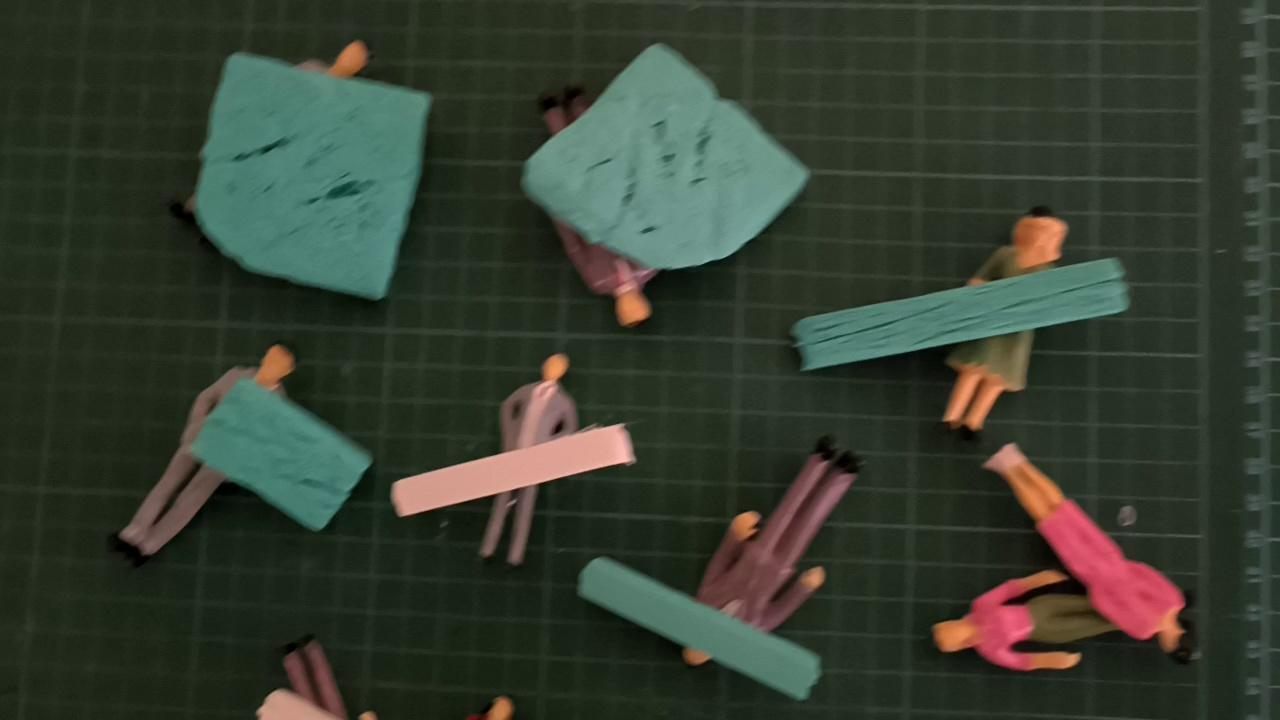human: (980, 446, 1200, 660), (108, 341, 299, 564), (684, 432, 863, 666), (167, 40, 372, 244), (930, 208, 1072, 444), (532, 82, 658, 325), (926, 567, 1177, 669), (475, 353, 582, 566), (281, 630, 375, 720), (466, 693, 518, 720)
